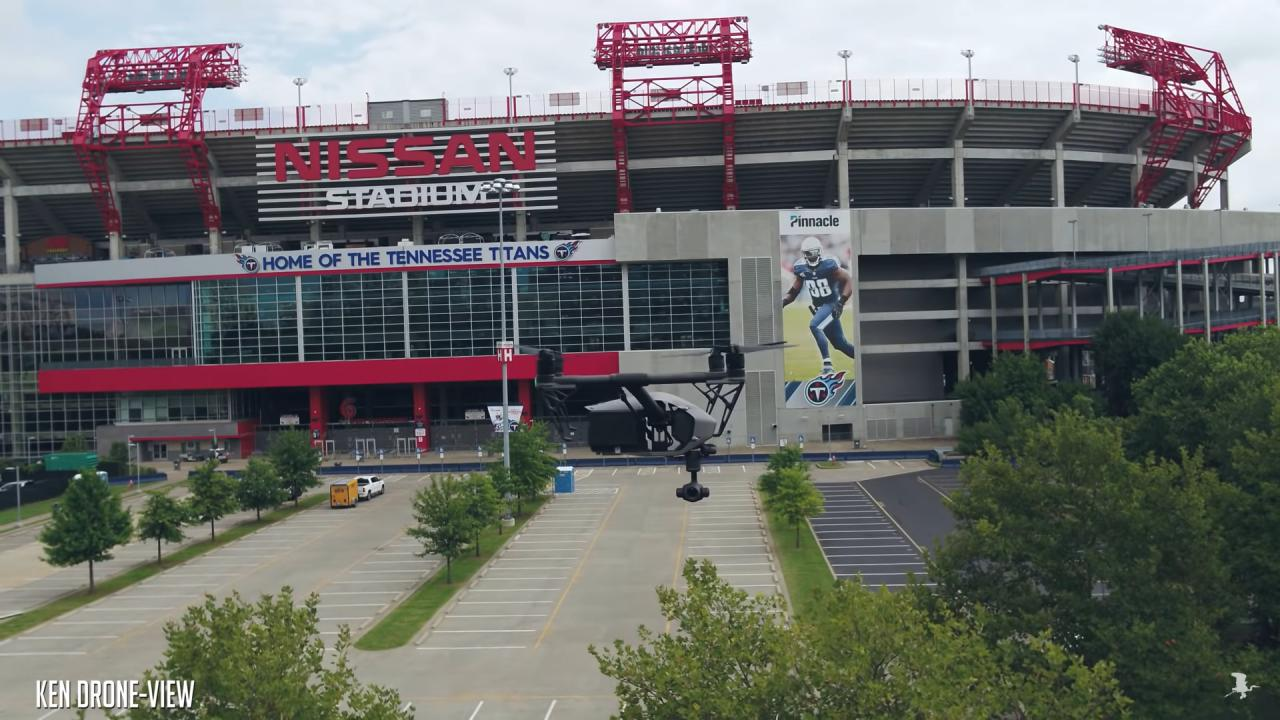Drone: (498, 322, 812, 513)
